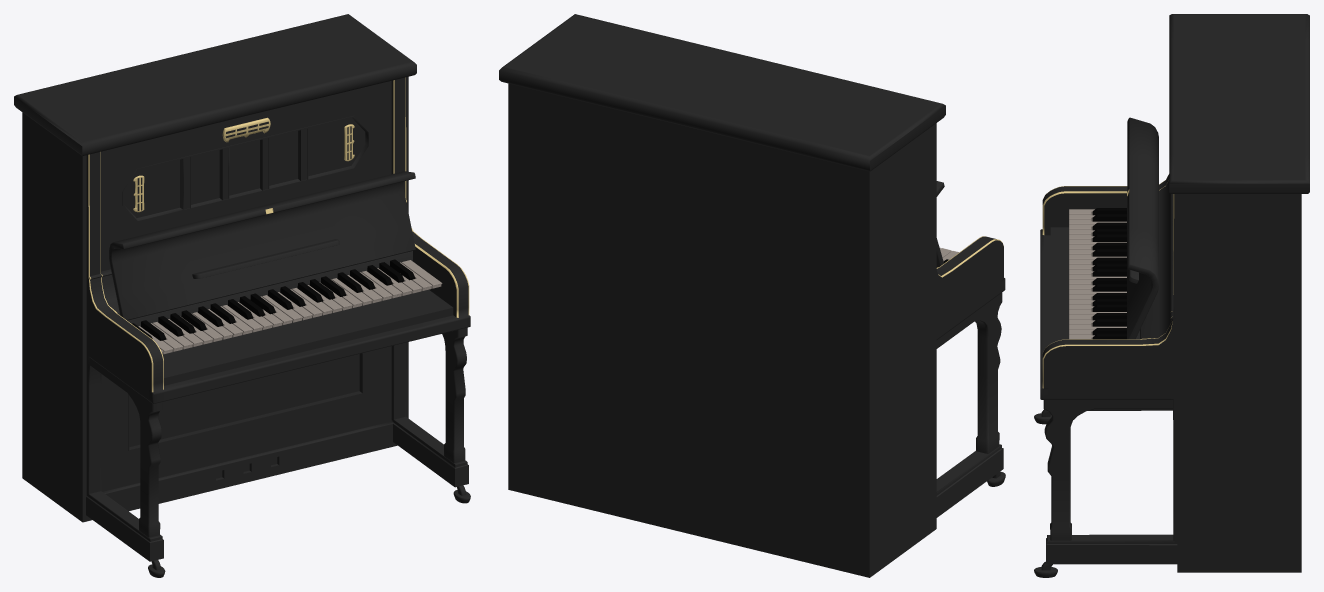
The model's file is PIANO.glb.
The picture shows the model from 3 angles, left to right: view 1: azimuth 30°, elevation 25°; view 2: azimuth 150°, elevation 25°; view 3: azimuth 270°, elevation 25°; orthographic projection. The views are drawn at different scales.
Parts seen in each view (by area): view 1: Piano_Body; view 2: Piano_Body; view 3: Piano_Body.
Part boxes in pixels (x1,y1,x2,y2): Piano_Body: [14, 14, 470, 577]; Piano_Body: [499, 14, 1005, 577]; Piano_Body: [1034, 14, 1309, 577].
Bounding box in the file's own units: 7.11 × 7.91 × 4.93.
4 materials, 1 textured.
